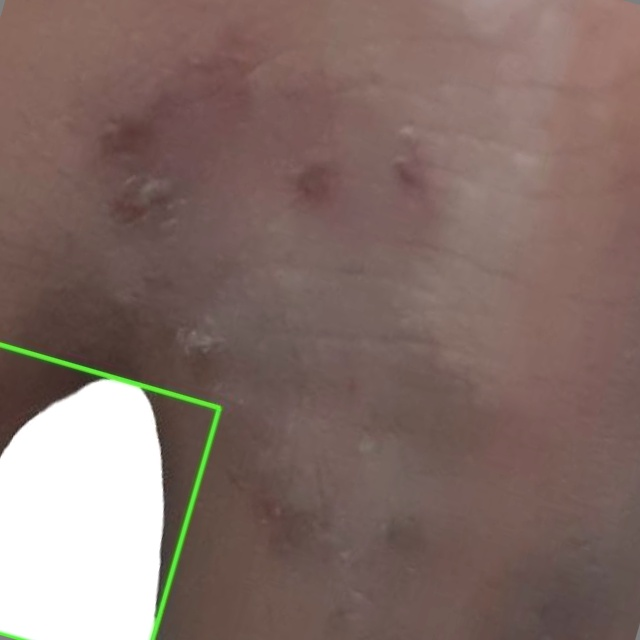Contact Dermatitis: (0, 344, 219, 639)
